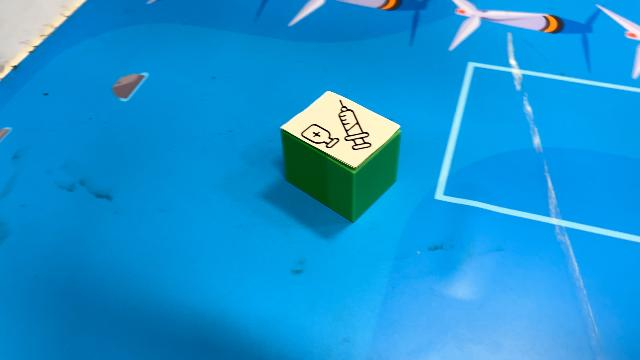syringe: (278, 88, 404, 224)
